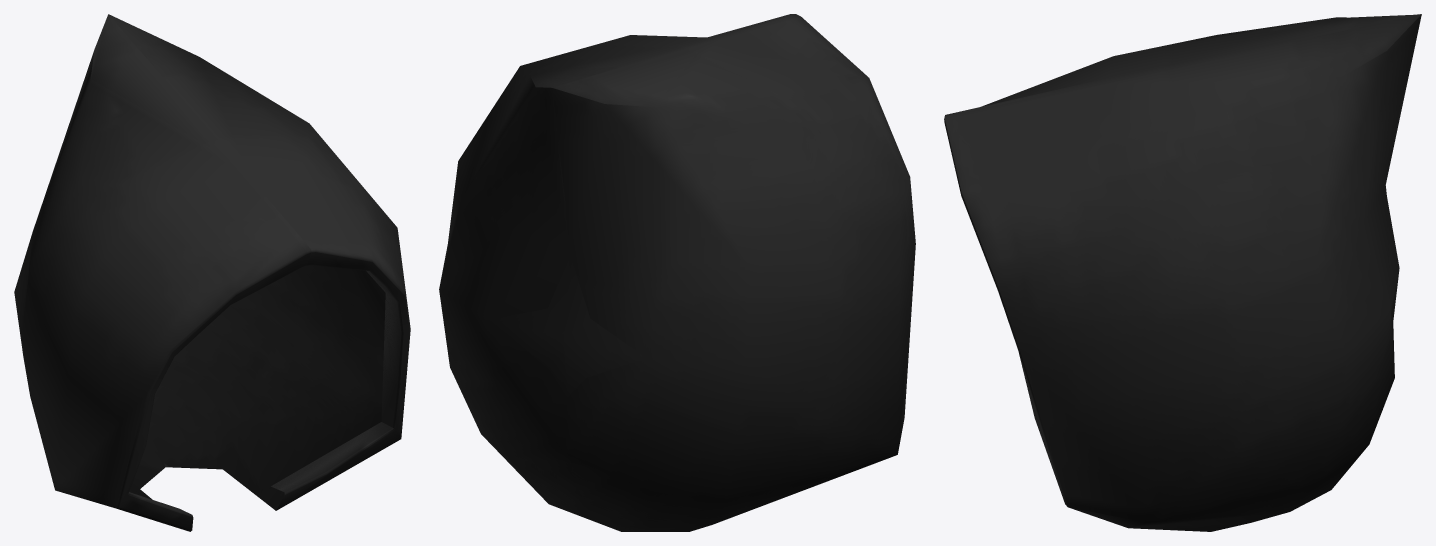
Rendered from Warrior_Hat.glb.
3 renders of one model, left to right at view 1: azimuth 30°, elevation 25°; view 2: azimuth 150°, elevation 25°; view 3: azimuth 270°, elevation 25°, orthographic. The views are drawn at different scales.
Parts seen in each view (by area): view 1: Warrior_Hat; view 2: Warrior_Hat; view 3: Warrior_Hat.
Part boxes in pixels (x1,y1,x2,y2): Warrior_Hat: [14, 14, 410, 531]; Warrior_Hat: [439, 14, 915, 531]; Warrior_Hat: [944, 14, 1421, 531].
Size of the model in its own units: 0.5892 by 0.6881 by 0.6084.
Materials: 1 (1 with a texture image).
